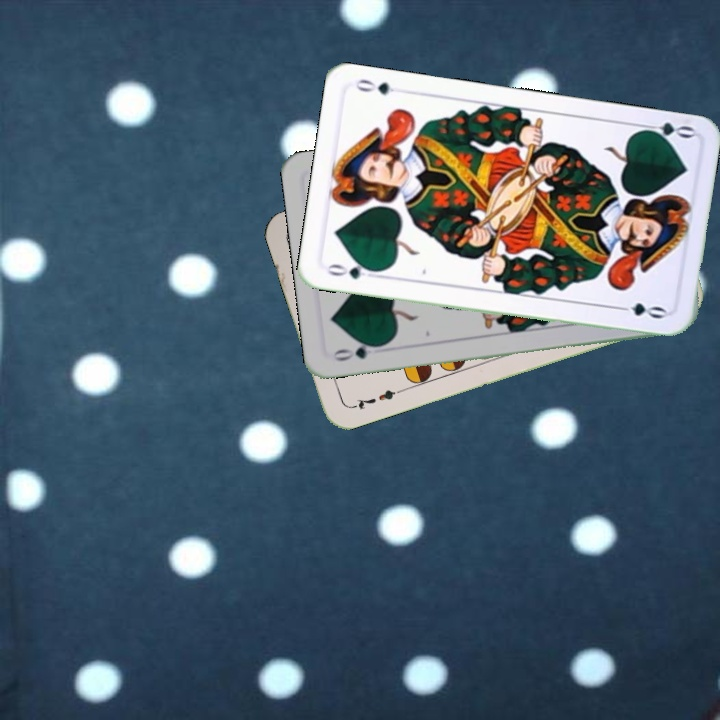E7: (346, 385, 404, 412)
GO: (636, 118, 696, 145), (330, 338, 387, 364), (324, 259, 382, 282)
